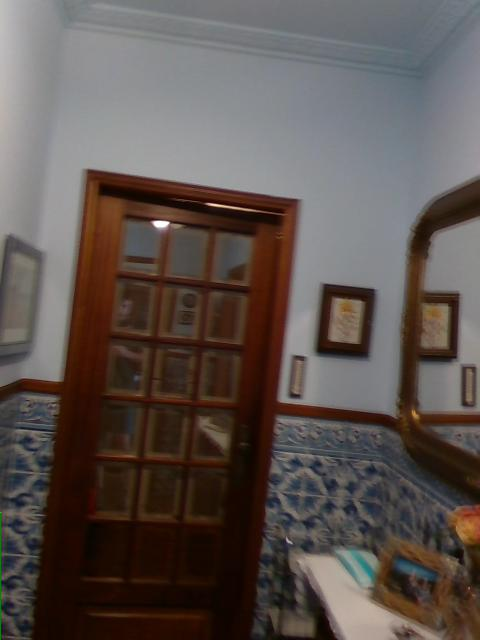door: (31, 167, 299, 639)
